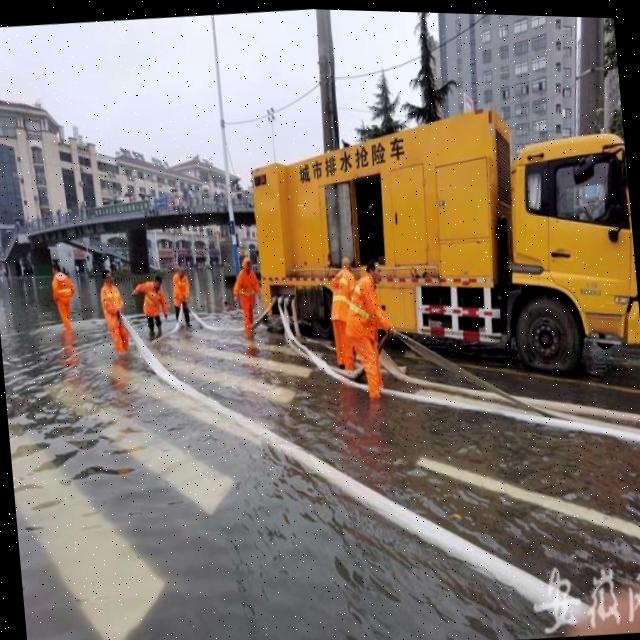rescuer: (345, 254, 399, 397), (323, 258, 371, 369), (95, 269, 134, 357), (230, 257, 269, 338), (134, 271, 172, 341), (164, 265, 200, 330), (44, 260, 78, 326)
